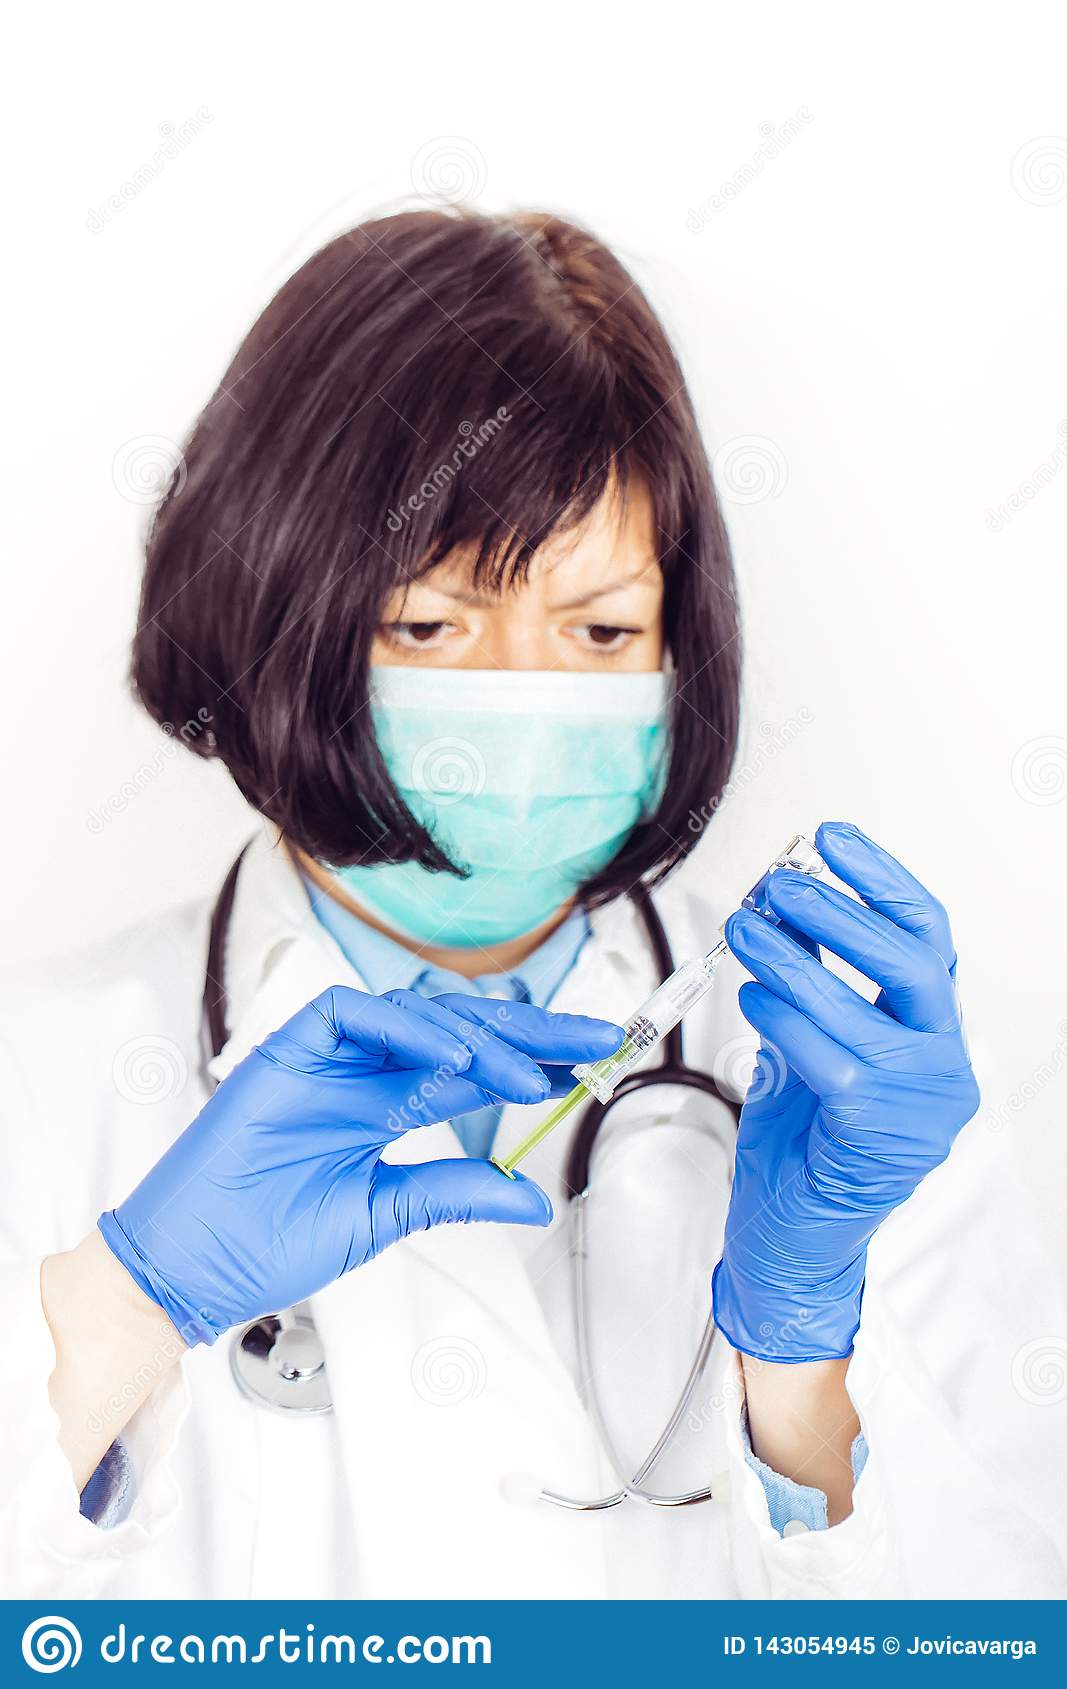mask: (310, 663, 692, 948)
